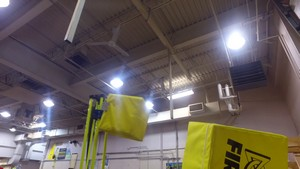cube: (100, 94, 150, 141)
